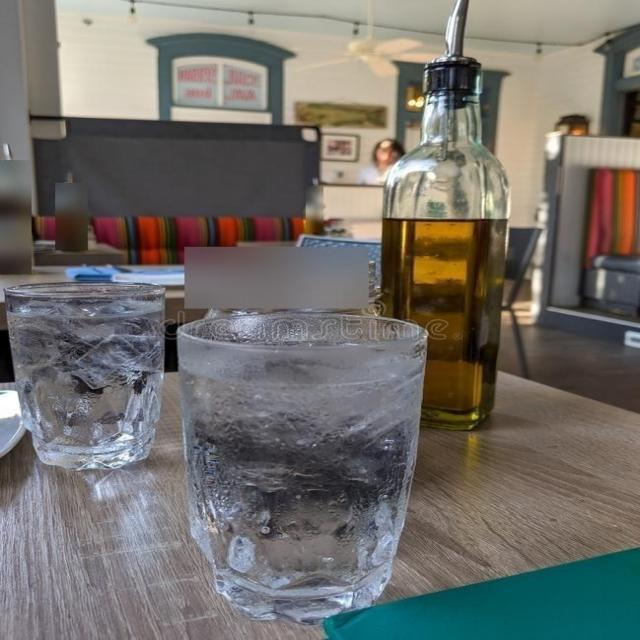bottle-glass: (378, 58, 516, 430)
glass-normal: (171, 312, 432, 624), (2, 276, 167, 468)
